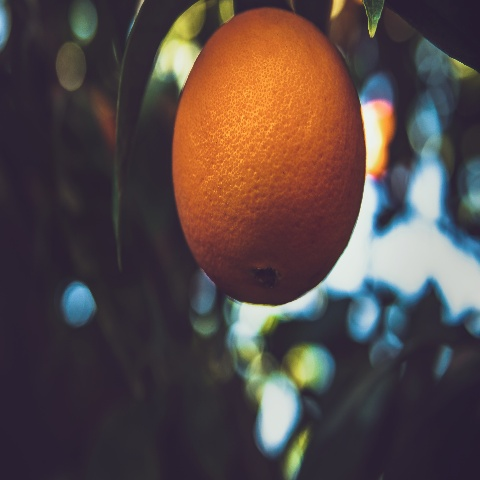orange: (152, 3, 406, 317)
